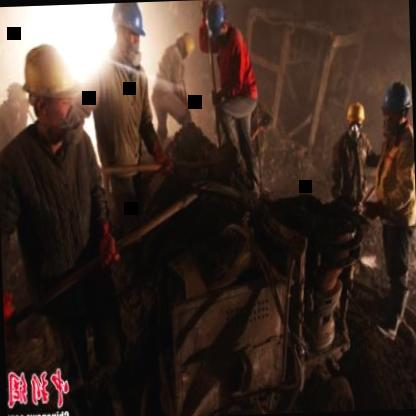helmet: (16, 37, 88, 142), (102, 2, 150, 70), (376, 74, 414, 138), (203, 0, 229, 47), (344, 96, 369, 138), (172, 26, 198, 62)
